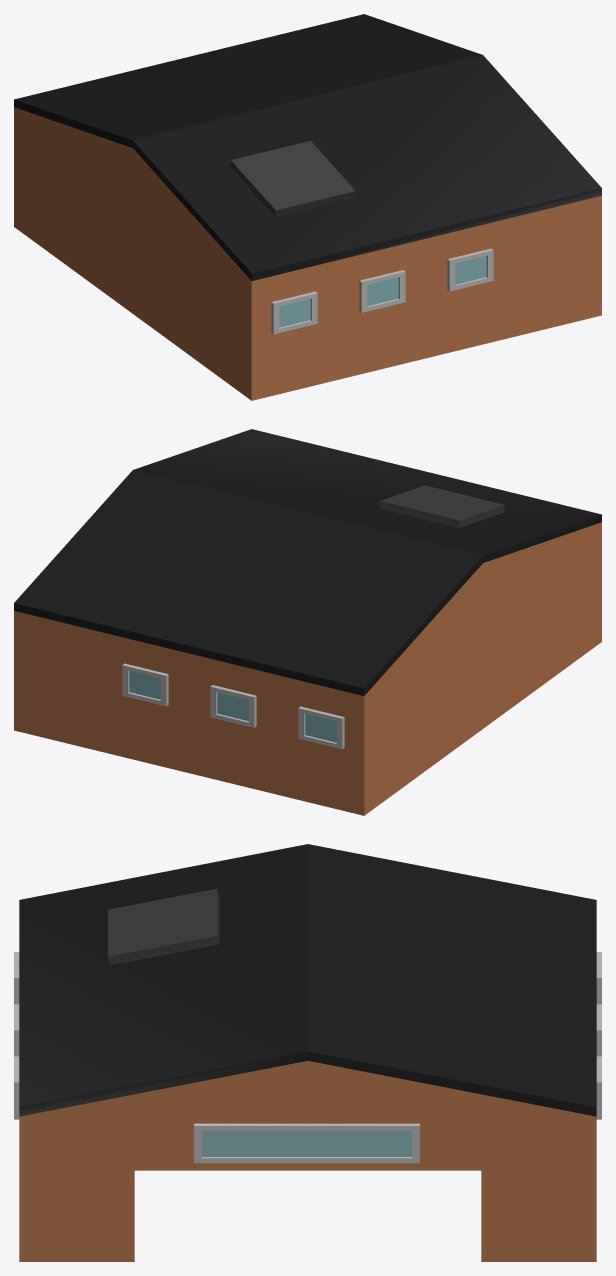
The model's file is hangar.fbx.
3 views of the same model, one above another, from view 1: azimuth 30°, elevation 25°; view 2: azimuth 150°, elevation 25°; view 3: azimuth 270°, elevation 25° (orthographic). The views are drawn at different scales.
Visible parts, largest first — view 1: hangar; view 2: hangar; view 3: hangar.
Boxes of the visible parts, left/top/right/bottom form: hangar: left=14, top=14, right=601, bottom=400; hangar: left=14, top=429, right=601, bottom=815; hangar: left=14, top=844, right=601, bottom=1261.
Bounding box in the file's own units: 6493 × 3037 × 7690.
